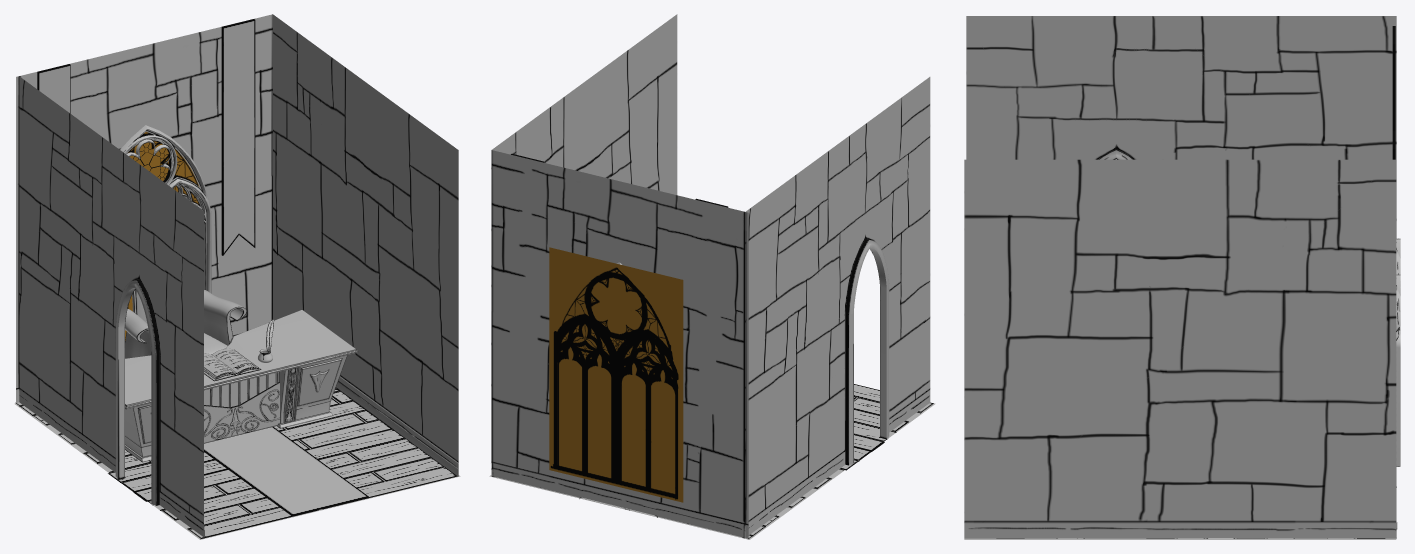
File: elonsOffice_final.fbx
The picture shows the model from 3 angles, left to right: view 1: azimuth 30°, elevation 25°; view 2: azimuth 150°, elevation 25°; view 3: azimuth 270°, elevation 25°; orthographic projection. The views are drawn at different scales.
Visible parts, largest first — view 1: elonsOffixe_WallsAndDoorframe_Geo, elonsDesk_geo, floorBoards_geo, elonBanner_R_geo, redCarpet_geo, elonsOfficeWIndow_geo, elonsThrone_geo, elonsBook_geo, elonBanner_L_geo; view 2: elonsOffixe_WallsAndDoorframe_Geo, elonsOfficeWIndow_geo, floorBoards_geo; view 3: elonsOffixe_WallsAndDoorframe_Geo, elonsOfficeWIndow_geo.
Boxes of the visible parts, box(x1,y1,x2,y2) form: elonsOffixe_WallsAndDoorframe_Geo: box(14, 14, 460, 539); elonsDesk_geo: box(125, 309, 358, 462); floorBoards_geo: box(15, 387, 457, 538); elonBanner_R_geo: box(221, 19, 255, 255); redCarpet_geo: box(204, 427, 368, 515); elonsOfficeWIndow_geo: box(120, 125, 211, 340); elonsThrone_geo: box(125, 289, 246, 358); elonsBook_geo: box(204, 348, 261, 381); elonBanner_L_geo: box(37, 64, 70, 113); elonsOffixe_WallsAndDoorframe_Geo: box(489, 14, 935, 539); elonsOfficeWIndow_geo: box(549, 247, 683, 502); floorBoards_geo: box(492, 384, 933, 539); elonsOffixe_WallsAndDoorframe_Geo: box(964, 16, 1397, 539); elonsOfficeWIndow_geo: box(1396, 238, 1400, 466).
Bounding box in the file's own units: 39.6 × 47.18 × 49.12.
6 materials, 6 textured.
